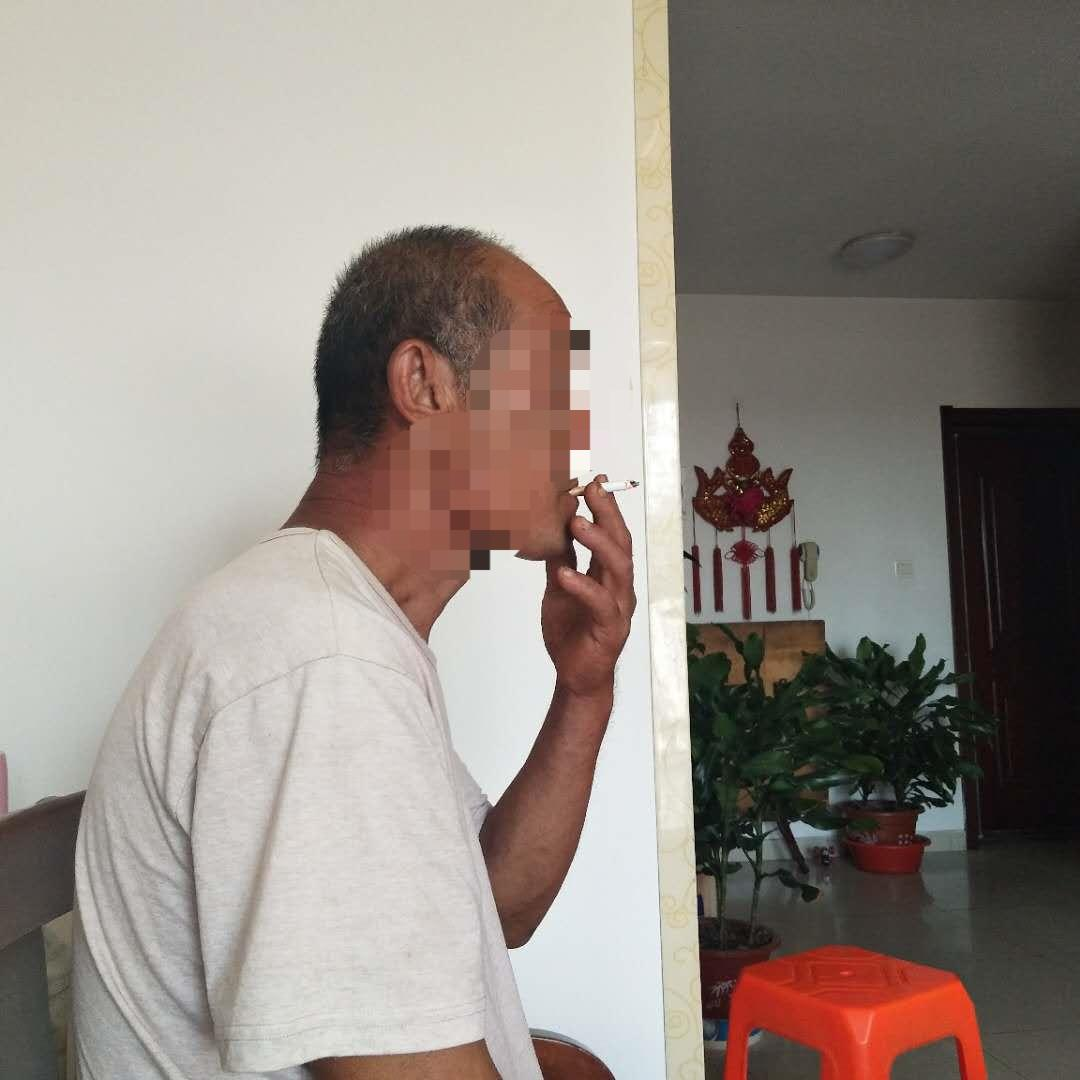smoke: (571, 471, 643, 497)
